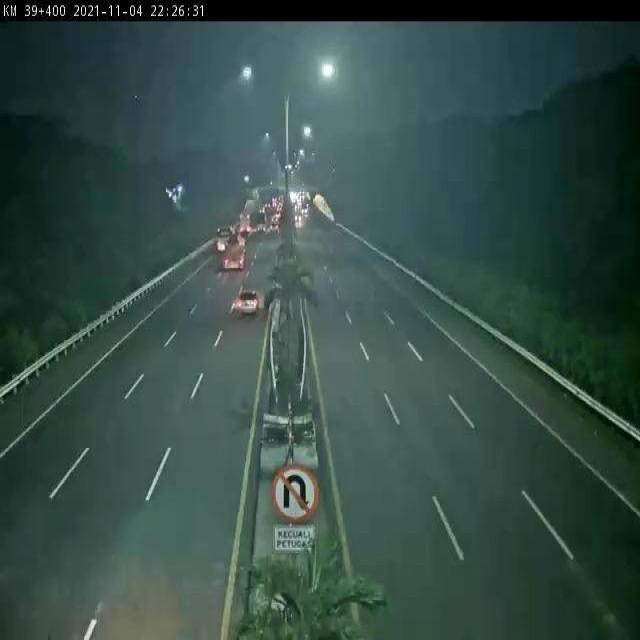bus-l-: (214, 220, 239, 260)
car: (232, 282, 265, 342)
truck-l-: (222, 234, 249, 274)
